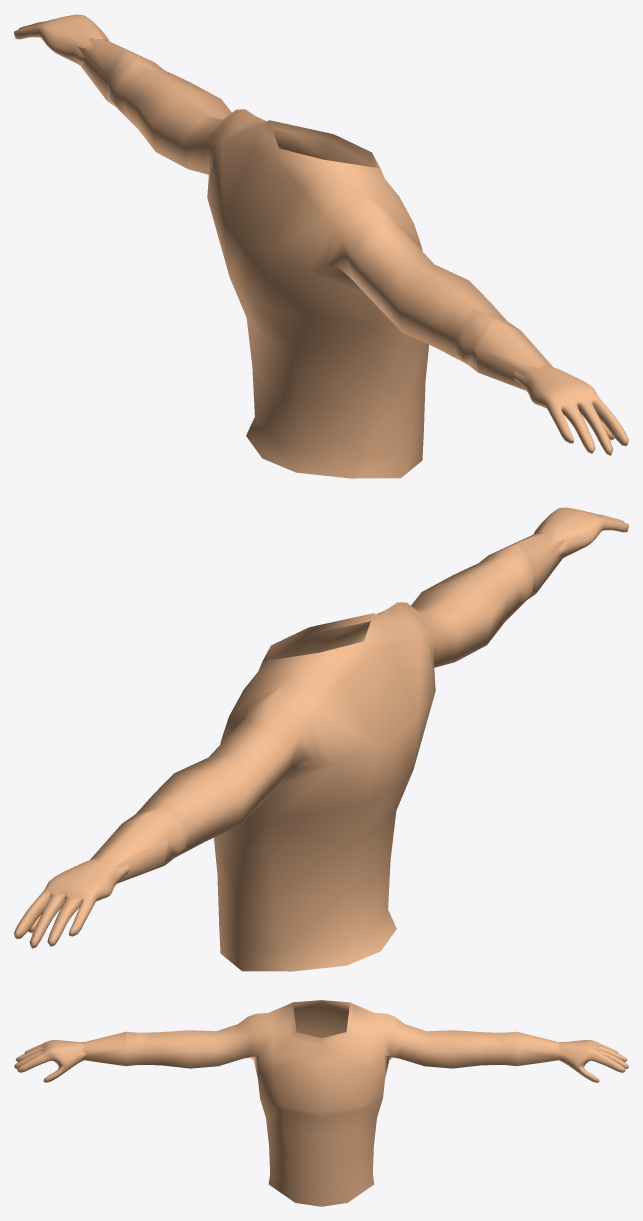
The picture shows the model from 3 angles, top to bottom: view 1: azimuth 30°, elevation 25°; view 2: azimuth 150°, elevation 25°; view 3: azimuth 270°, elevation 25°; orthographic projection. The views are drawn at different scales.
Parts seen in each view (by area): view 1: chest; view 2: chest; view 3: chest.
Part boxes in pixels (x1,y1,x2,y2): chest: [14, 14, 628, 478]; chest: [14, 507, 628, 971]; chest: [14, 1000, 628, 1206].
Size of the model in its own units: 0.3691 by 0.6879 by 2.17.
